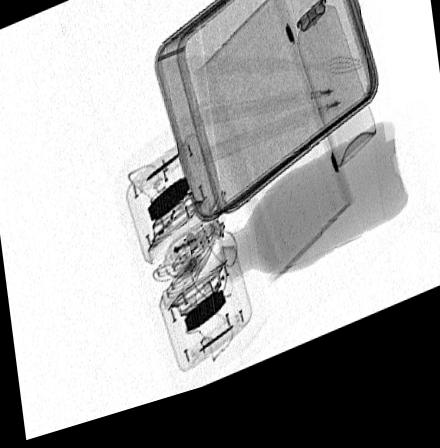Sprayer: (287, 0, 375, 190)
